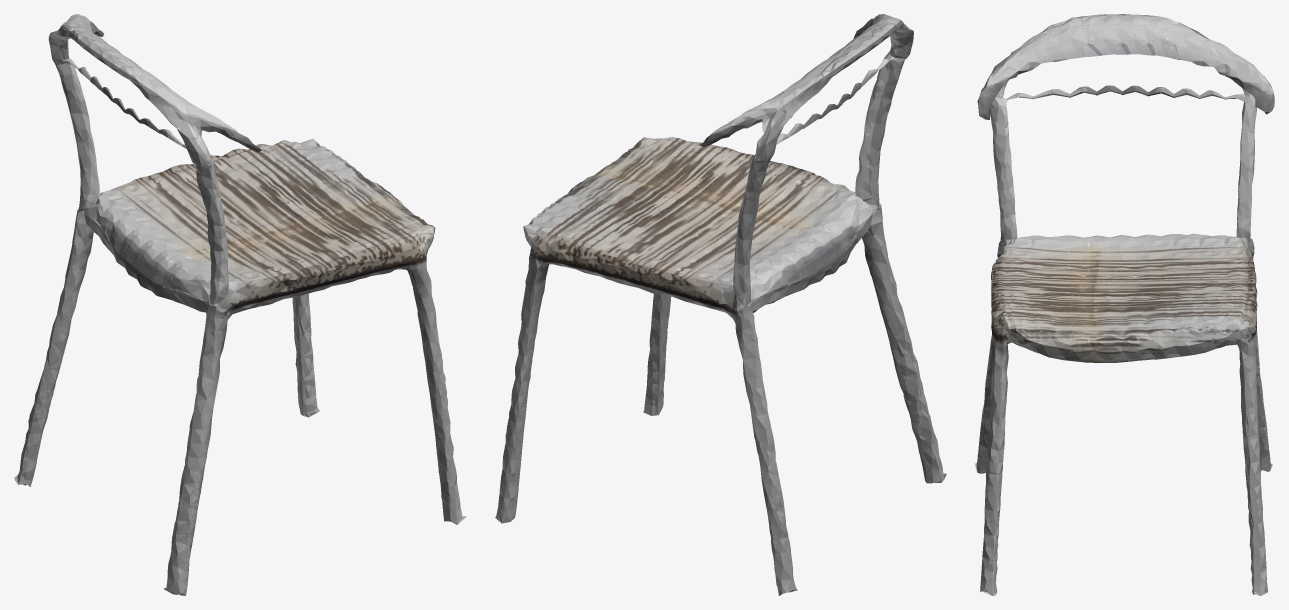
File: elem_115_131_206_213_9_6.obj
3 renders of one model, left to right at view 1: azimuth 30°, elevation 25°; view 2: azimuth 150°, elevation 25°; view 3: azimuth 270°, elevation 25°, orthographic. The views are drawn at different scales.
Bounding box in the file's own units: 0.444 × 0.6979 × 0.4159.
1 material, 1 textured.
